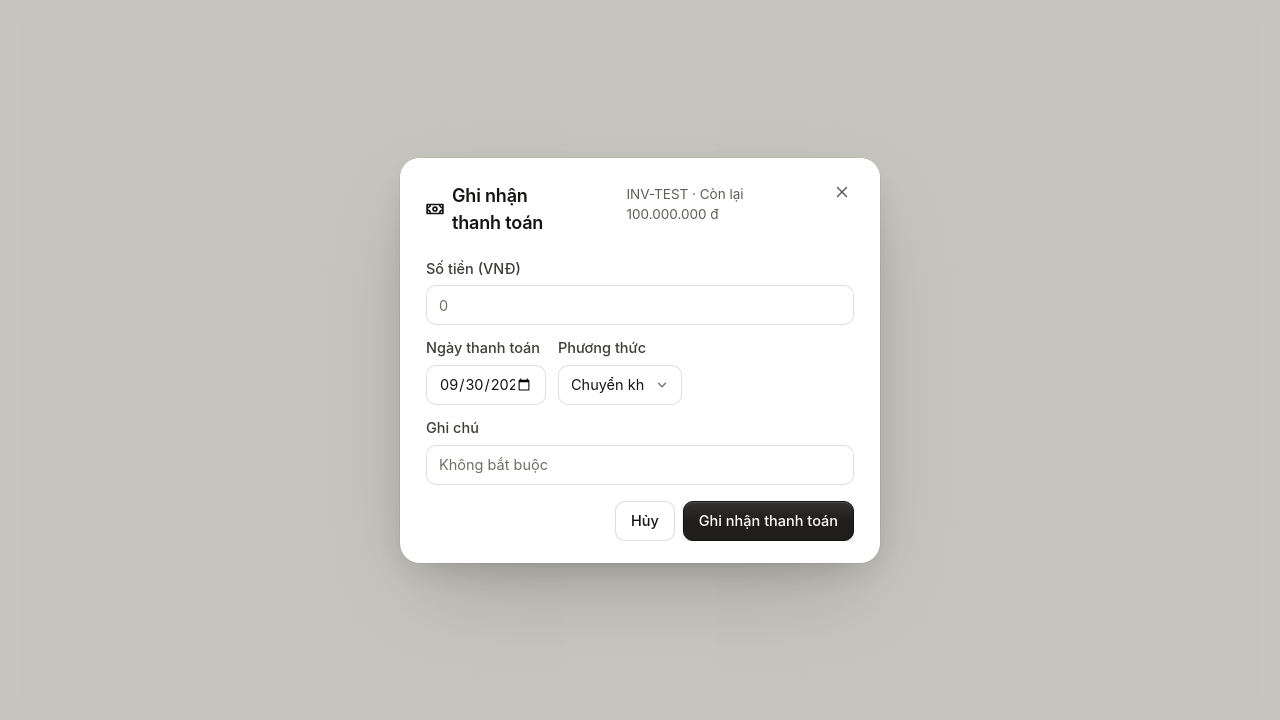
Test: PaymentFormModal (NCL-10-CN-003 — Ghi nhận thanh toán của khách hàng) › hiển thị lỗi khi hóa đơn đã thanh toán đủ (INVALID_STATE)
The image size is (1280, 720).
Type "10000000" into the field labelled "Số tiền (VNĐ)".
click(640, 305); type("10000000")  # box 426,285 -> 854,325
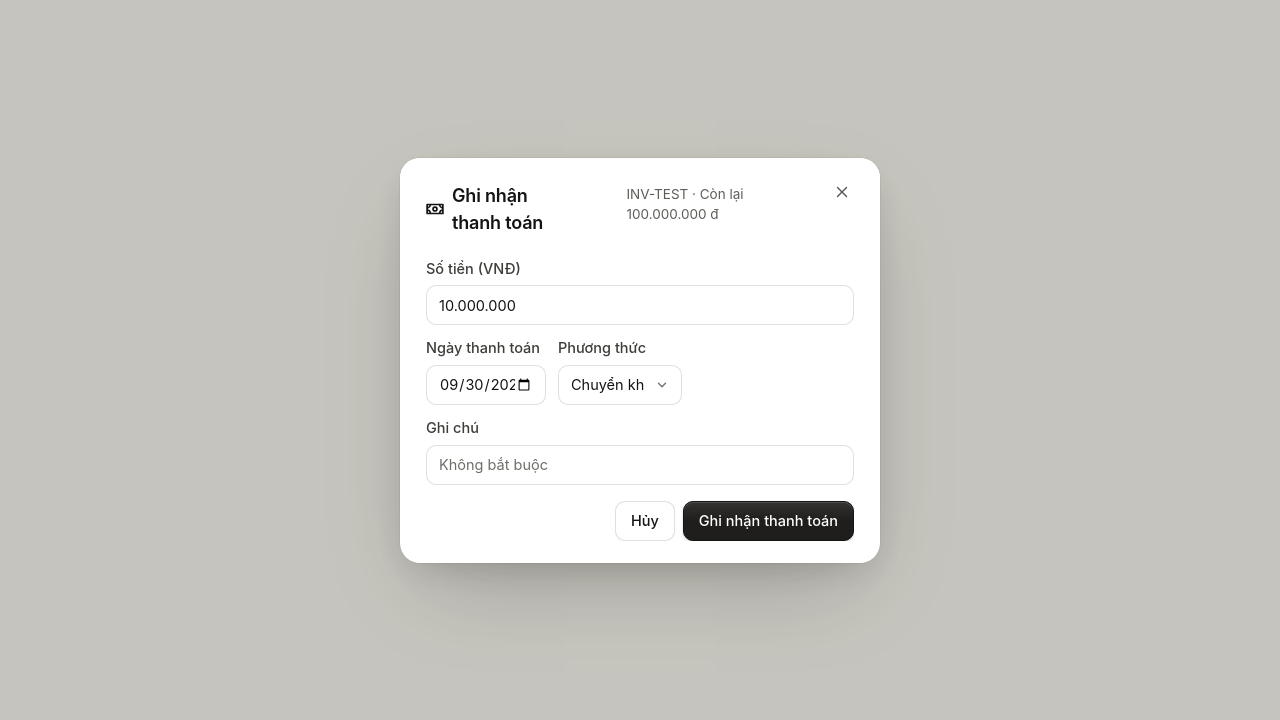
Click the button "Ghi nhận thanh toán".
click(768, 521)  # box 683,501 -> 854,541
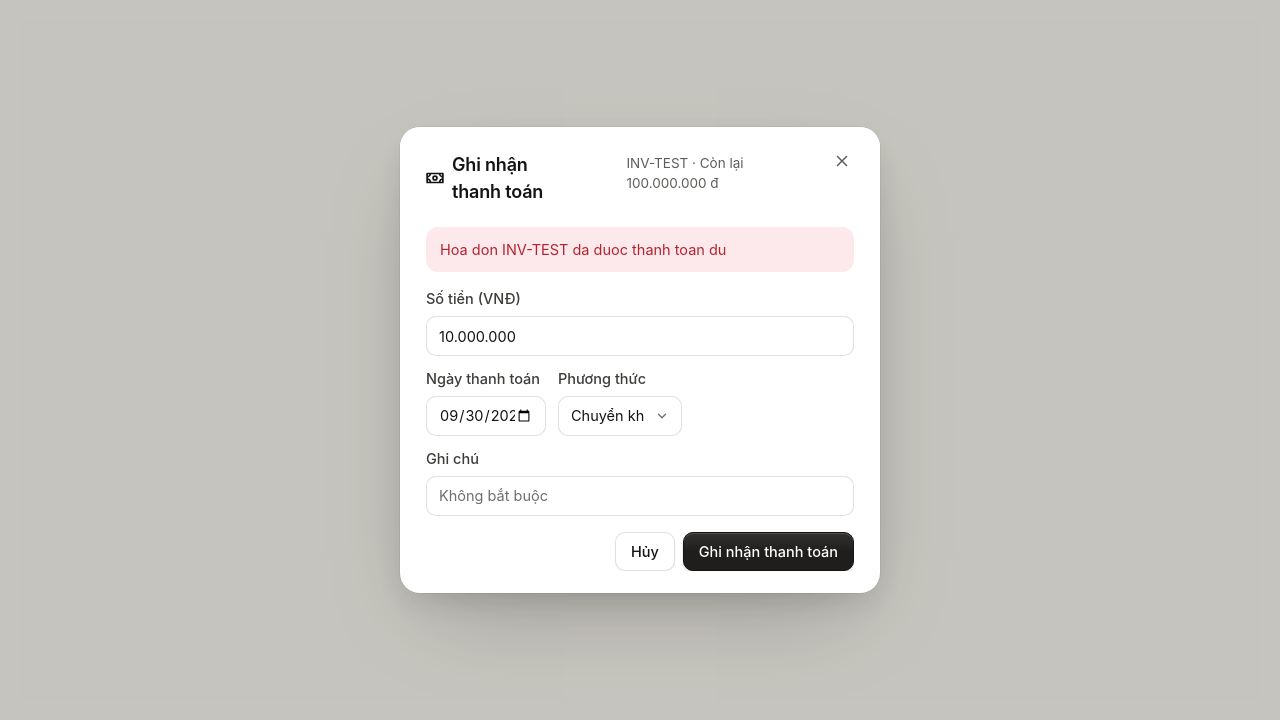
Expected: the text "Hoa don INV-TEST da duoc thanh toan du" is shown, 426,227 -> 854,272
